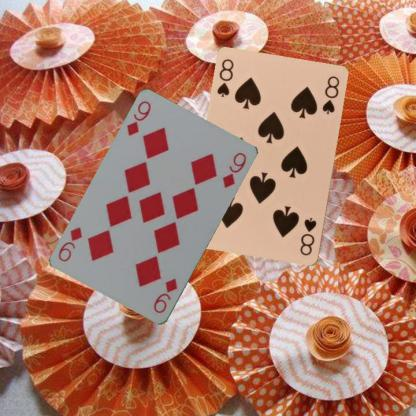8s: (214, 57, 235, 98), (298, 215, 318, 257)
9d: (124, 98, 153, 138), (151, 276, 179, 316)
